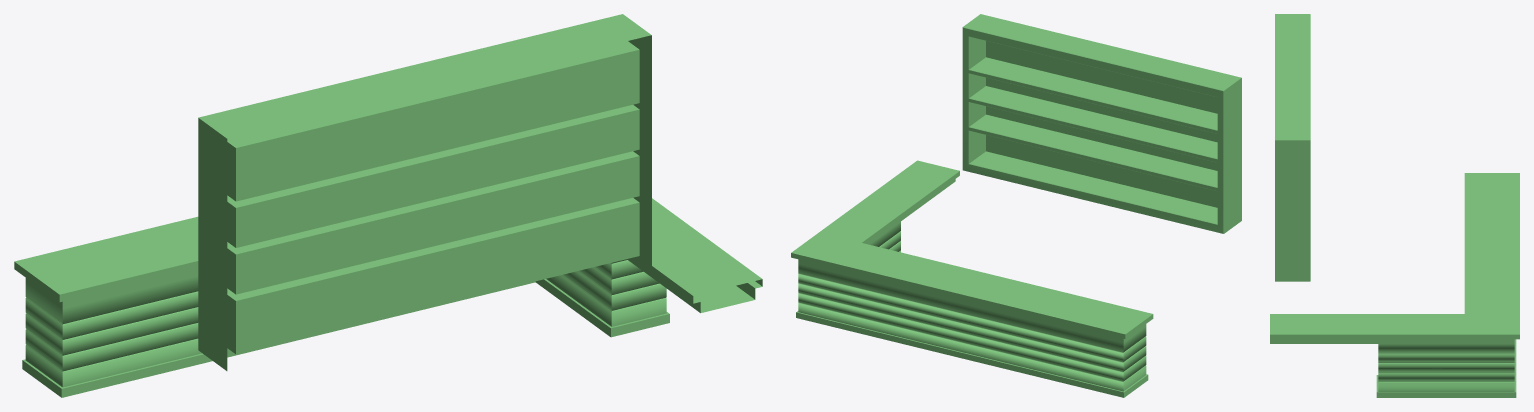
File: Muebles.fbx
The picture shows the model from 3 angles, left to right: view 1: azimuth 30°, elevation 25°; view 2: azimuth 150°, elevation 25°; view 3: azimuth 270°, elevation 25°; orthographic projection. The views are drawn at different scales.
Visible parts, largest first — view 1: Estanteria, Mesita; view 2: Estanteria, Mesita; view 3: Mesita, Estanteria.
Part boxes in pixels (x1,y1,x2,y2): Estanteria: [198, 14, 651, 370]; Mesita: [14, 198, 762, 397]; Estanteria: [962, 14, 1241, 233]; Mesita: [791, 160, 1153, 397]; Mesita: [1270, 173, 1519, 397]; Estanteria: [1275, 14, 1310, 281].
Bounding box in the file's own units: 294 × 193 × 193.
